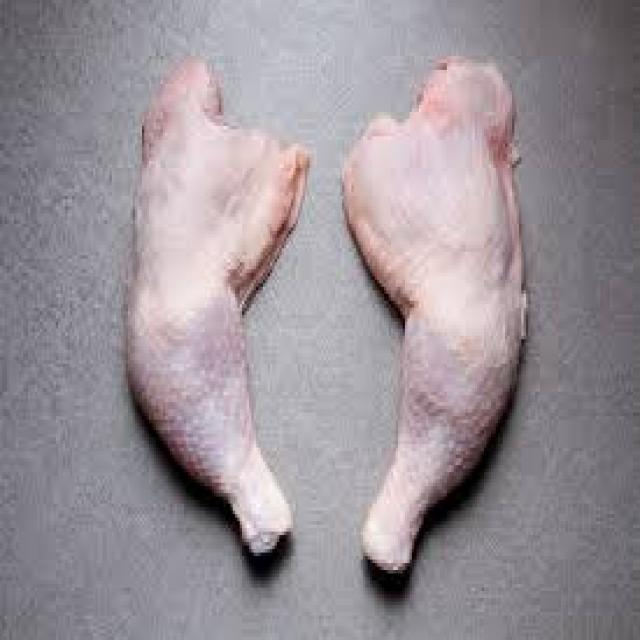chicken: (344, 59, 526, 574), (128, 59, 310, 556)
